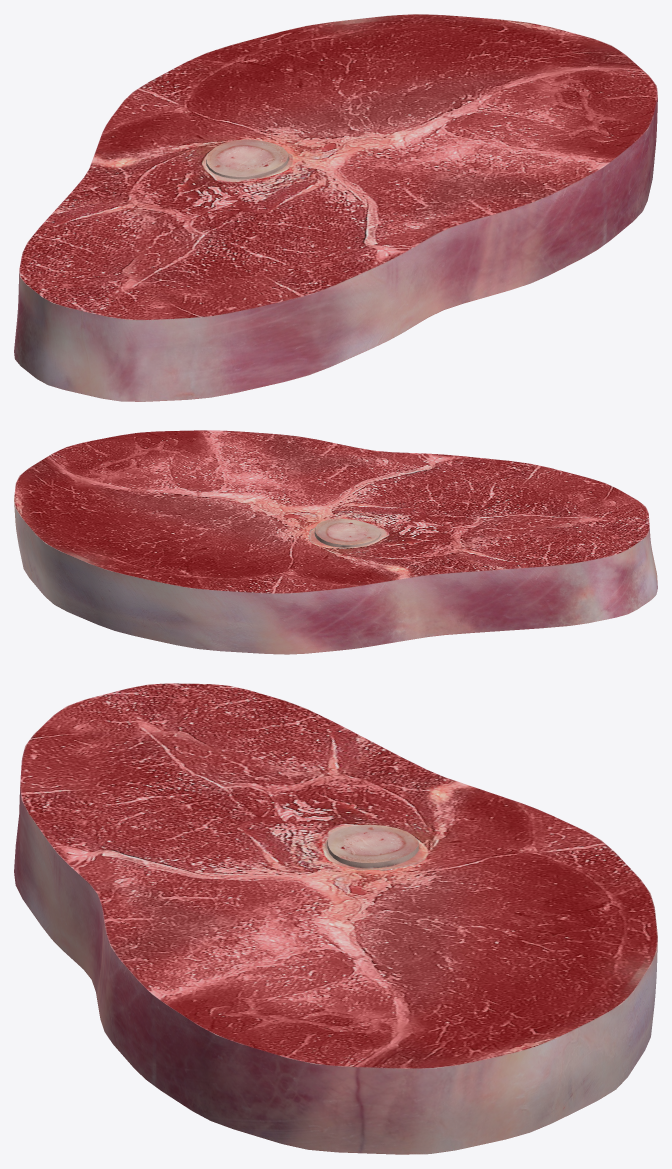
The model's file is meat.glb.
The picture shows the model from 3 angles, top to bottom: view 1: azimuth 30°, elevation 25°; view 2: azimuth 150°, elevation 25°; view 3: azimuth 270°, elevation 25°; orthographic projection. The views are drawn at different scales.
Parts seen in each view (by area): view 1: Meat_test_low_002; view 2: Meat_test_low_002; view 3: Meat_test_low_002.
Part boxes in pixels (x1,y1,x2,y2): Meat_test_low_002: (14,14,657,401); Meat_test_low_002: (14,430,657,654); Meat_test_low_002: (14,683,657,1154).
Bounding box in the file's own units: 0.5221 × 0.0636 × 0.3646.
Materials: 1 (1 with a texture image).
